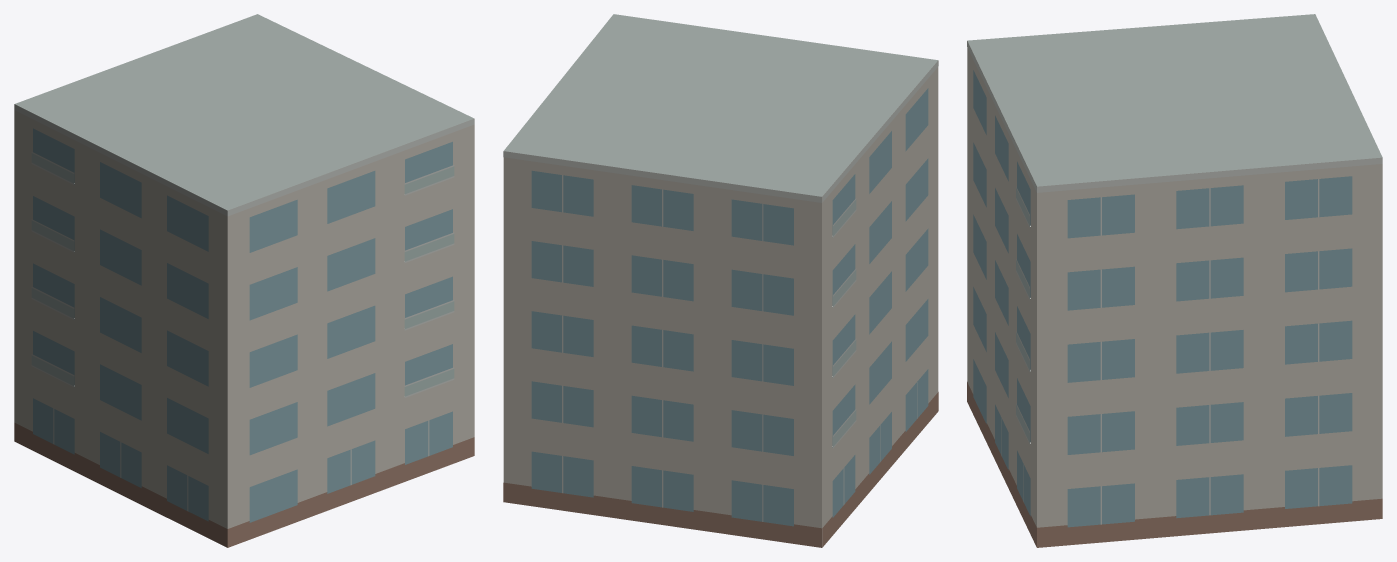
The model's file is survey-upis-32882714.glb.
3 views of the same model, side by side, from view 1: azimuth 30°, elevation 25°; view 2: azimuth 150°, elevation 25°; view 3: azimuth 270°, elevation 25° (orthographic). The views are drawn at different scales.
Visible parts, largest first — view 1: survey-upis-32882714.tmp; view 2: survey-upis-32882714.tmp; view 3: survey-upis-32882714.tmp.
Part boxes in pixels (x1,y1,x2,y2): survey-upis-32882714.tmp: [14, 14, 474, 547]; survey-upis-32882714.tmp: [503, 14, 938, 547]; survey-upis-32882714.tmp: [967, 14, 1382, 547].
Size of the model in its own units: 14.36 by 14 by 14.61.
